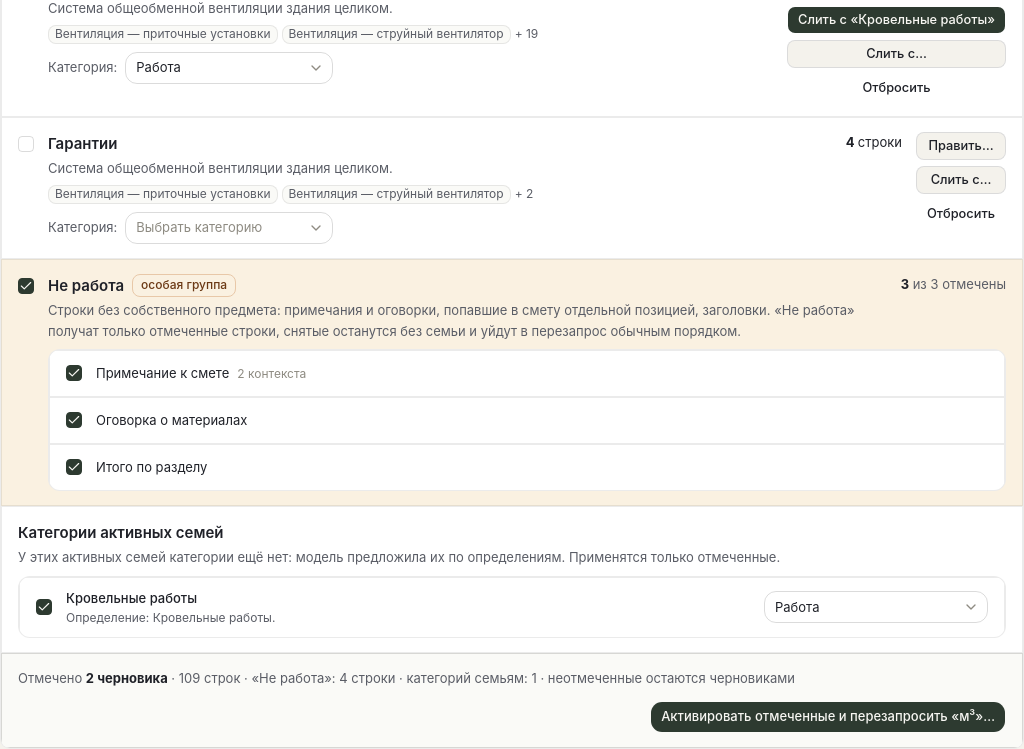
Test: DiscoveryDrafts — активация › пропущенные строки и категории названы уведомлением с числом и именами
(page scrolled)
Click the button "Активировать отмеченные и перезапросить «м³»…": coordinates (828, 717) [650, 701, 1006, 733]
(page scrolled)
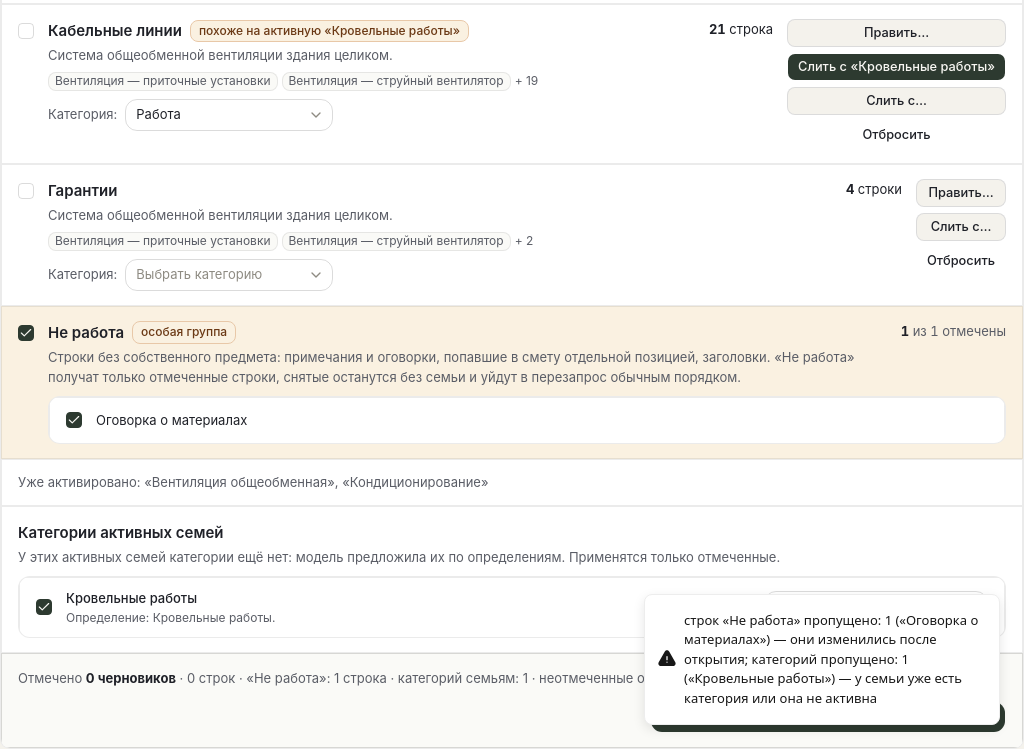
Check: the text "строк «Не работа» пропущено: 1" shows "(«Оговорка о материалах»)", box [684, 610, 978, 706]
Check: the text "строк «Не работа» пропущено: 1" shows "категорий пропущено: 1 («Кровельные работы»)", box [684, 610, 978, 706]
